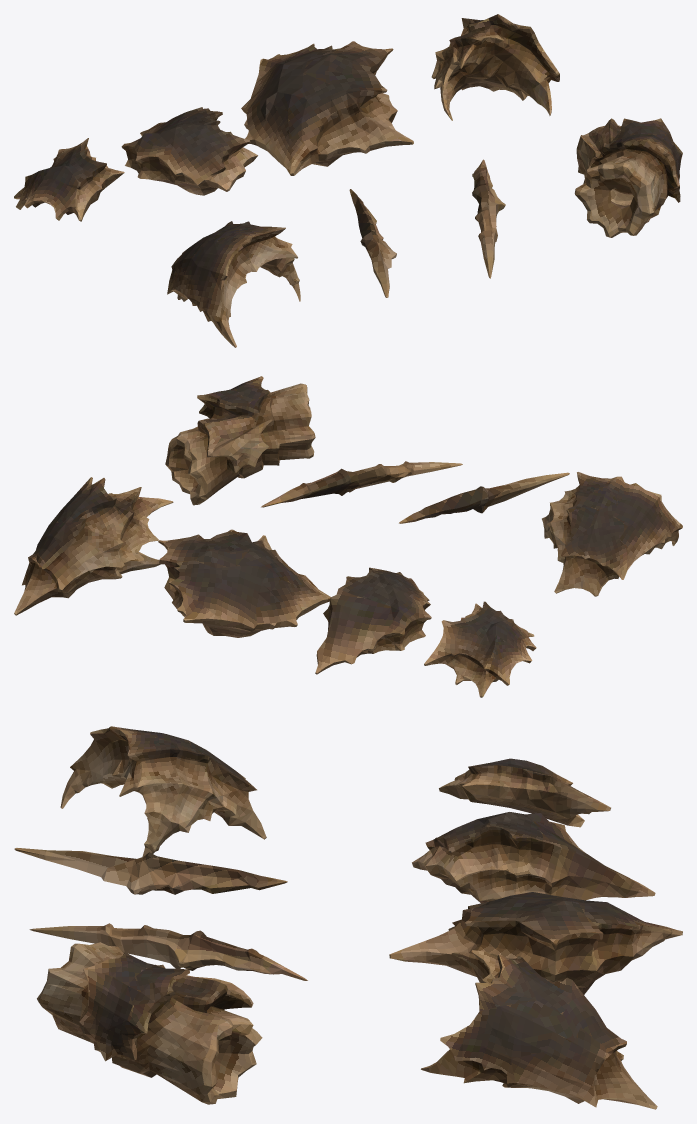
Rendered from crawler_fragments.glb.
The picture shows the model from 3 angles, top to bottom: view 1: azimuth 30°, elevation 25°; view 2: azimuth 150°, elevation 25°; view 3: azimuth 270°, elevation 25°; orthographic projection. The views are drawn at different scales.
Visible parts, largest first — view 1: flat_scale_plate_large, chunky_knuckle_piece, curved_shell_flake_a, curved_shell_flake_b, flat_scale_plate_medium, flat_scale_plate_small, thin_shard_b, thin_shard_a; view 2: flat_scale_plate_large, chunky_knuckle_piece, curved_shell_flake_a, curved_shell_flake_b, flat_scale_plate_medium, flat_scale_plate_small, thin_shard_b, thin_shard_a; view 3: chunky_knuckle_piece, curved_shell_flake_a, flat_scale_plate_large, flat_scale_plate_medium, curved_shell_flake_b, flat_scale_plate_small, thin_shard_a, thin_shard_b.
Part boxes in pixels (x1,y1,x2,y2): flat_scale_plate_large: (241, 41, 413, 175); chunky_knuckle_piece: (574, 118, 682, 237); curved_shell_flake_a: (431, 14, 559, 120); curved_shell_flake_b: (167, 221, 300, 347); flat_scale_plate_medium: (121, 107, 257, 195); flat_scale_plate_small: (14, 138, 124, 221); thin_shard_b: (472, 159, 505, 278); thin_shard_a: (349, 189, 396, 297); flat_scale_plate_large: (158, 529, 330, 637); chunky_knuckle_piece: (165, 376, 315, 505); curved_shell_flake_a: (14, 477, 173, 615); curved_shell_flake_b: (542, 472, 682, 596); flat_scale_plate_medium: (315, 567, 431, 674); flat_scale_plate_small: (424, 601, 536, 697); thin_shard_b: (261, 461, 462, 507); thin_shard_a: (399, 472, 569, 523); chunky_knuckle_piece: (37, 942, 262, 1104); curved_shell_flake_a: (421, 950, 657, 1109); flat_scale_plate_large: (389, 892, 682, 994); flat_scale_plate_medium: (412, 812, 655, 903); curved_shell_flake_b: (60, 726, 266, 856); flat_scale_plate_small: (439, 758, 610, 827); thin_shard_a: (14, 848, 287, 894); thin_shard_b: (29, 923, 307, 980).
Bounding box in the file's own units: 0.9995 × 0.2124 × 0.9067.
Materials: 1 (1 with a texture image).
